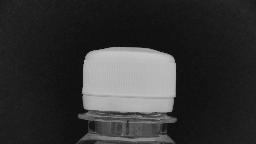Broken Cap: (80, 45, 178, 115)
